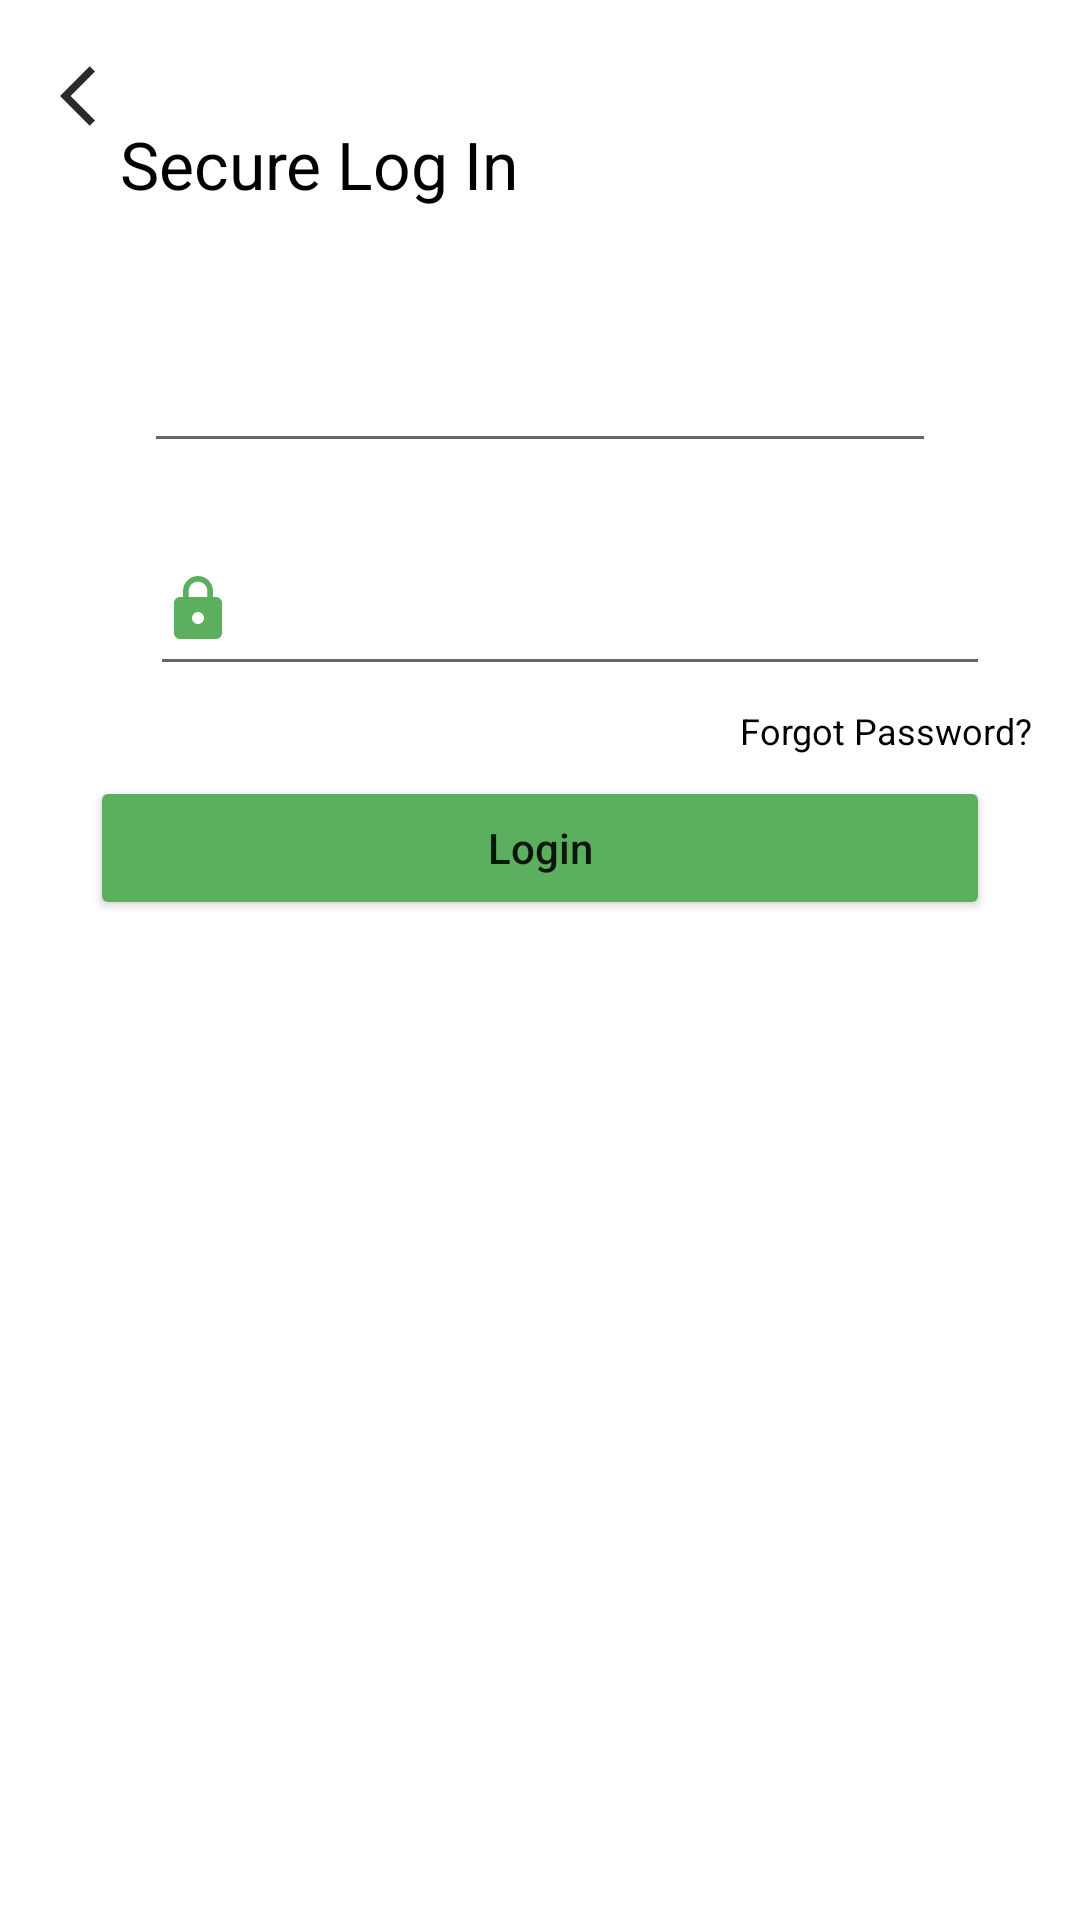

Screen size 1080x1920. Icon name, then its box in pixels as (x1, y1, x2, y2):
back arrow: (60, 66, 95, 126)
